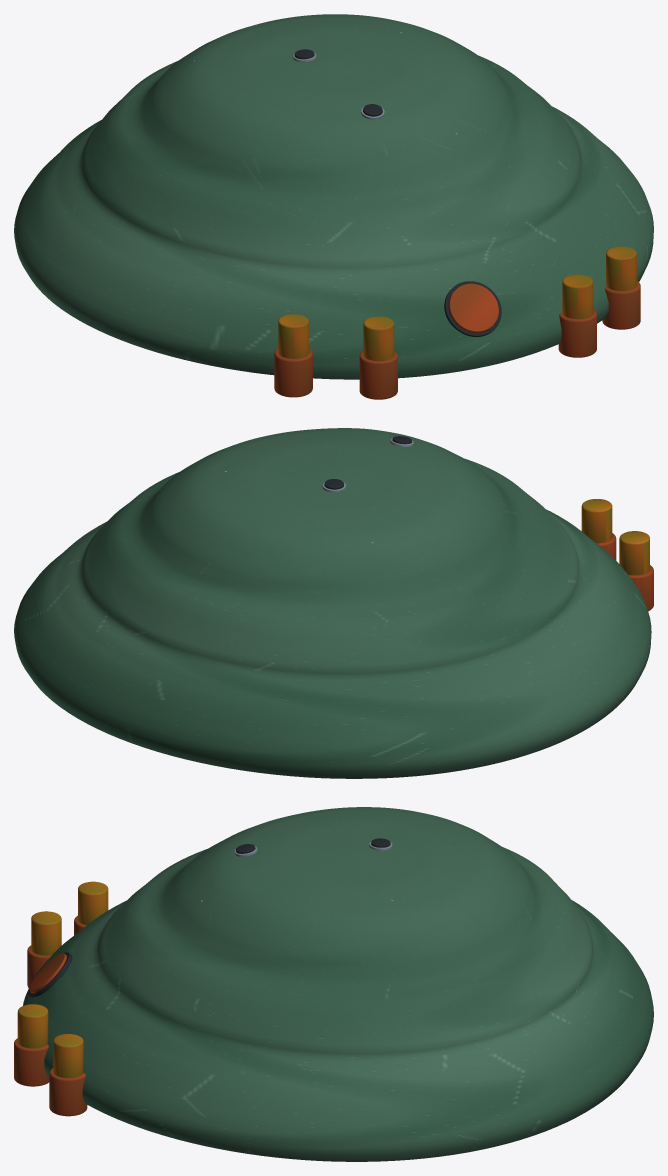
3 views of the same model, one above another, from view 1: azimuth 30°, elevation 25°; view 2: azimuth 150°, elevation 25°; view 3: azimuth 270°, elevation 25° (orthographic).
Parts seen in each view (by area): view 1: Naval Dockyard low green dock shell, Naval Dockyard central copper front inset, Naval Dockyard copper lower sleeve 0, Naval Dockyard copper lower sleeve 1, Naval Dockyard copper lower sleeve 2, Naval Dockyard copper lower sleeve 3, Naval Dockyard amber upper fitting 2, Naval Dockyard amber upper fitting 1, Naval Dockyard amber upper fitting 0, Naval Dockyard amber upper fitting 3, Naval Dockyard central copper front inset clear rim; view 2: Naval Dockyard low green dock shell, Naval Dockyard amber upper fitting 0, Naval Dockyard amber upper fitting 1, Naval Dockyard copper lower sleeve 0; view 3: Naval Dockyard low green dock shell, Naval Dockyard copper lower sleeve 3, Naval Dockyard amber upper fitting 2, Naval Dockyard copper lower sleeve 2, Naval Dockyard amber upper fitting 3, Naval Dockyard amber upper fitting 1, Naval Dockyard amber upper fitting 0, Naval Dockyard central copper front inset.
Boxes of the visible parts, x1=… form: Naval Dockyard low green dock shell: x1=14, y1=14, x2=653, y2=379; Naval Dockyard central copper front inset: x1=448, y1=283, x2=498, y2=332; Naval Dockyard copper lower sleeve 0: x1=274, y1=348, x2=312, y2=397; Naval Dockyard copper lower sleeve 1: x1=359, y1=351, x2=397, y2=399; Naval Dockyard copper lower sleeve 2: x1=558, y1=309, x2=596, y2=357; Naval Dockyard copper lower sleeve 3: x1=602, y1=281, x2=640, y2=329; Naval Dockyard amber upper fitting 2: x1=562, y1=274, x2=593, y2=319; Naval Dockyard amber upper fitting 1: x1=363, y1=316, x2=394, y2=360; Naval Dockyard amber upper fitting 0: x1=278, y1=314, x2=308, y2=358; Naval Dockyard amber upper fitting 3: x1=606, y1=246, x2=636, y2=290; Naval Dockyard central copper front inset clear rim: x1=444, y1=281, x2=501, y2=336; Naval Dockyard low green dock shell: x1=14, y1=428, x2=651, y2=778; Naval Dockyard amber upper fitting 0: x1=619, y1=531, x2=649, y2=575; Naval Dockyard amber upper fitting 1: x1=581, y1=499, x2=612, y2=543; Naval Dockyard copper lower sleeve 0: x1=629, y1=565, x2=653, y2=611; Naval Dockyard low green dock shell: x1=23, y1=807, x2=653, y2=1161; Naval Dockyard copper lower sleeve 3: x1=49, y1=1068, x2=87, y2=1116; Naval Dockyard amber upper fitting 2: x1=17, y1=1004, x2=48, y2=1048; Naval Dockyard copper lower sleeve 2: x1=14, y1=1038, x2=49, y2=1086; Naval Dockyard amber upper fitting 3: x1=53, y1=1034, x2=83, y2=1077; Naval Dockyard amber upper fitting 1: x1=31, y1=911, x2=61, y2=955; Naval Dockyard amber upper fitting 0: x1=78, y1=881, x2=108, y2=925; Naval Dockyard central copper front inset: x1=29, y1=953, x2=66, y2=993.
Bounding box in the file's own units: 2.17 × 0.7272 × 2.19.
Materials: 5 (4 with a texture image).
